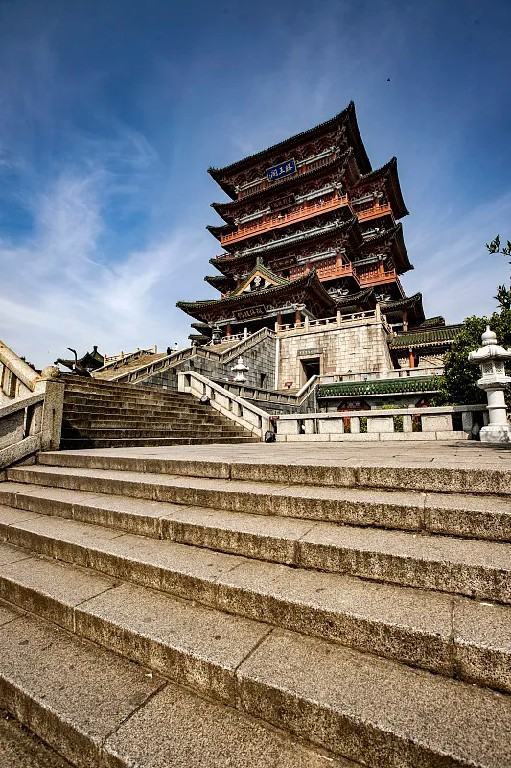Teng: (174, 102, 427, 336)
